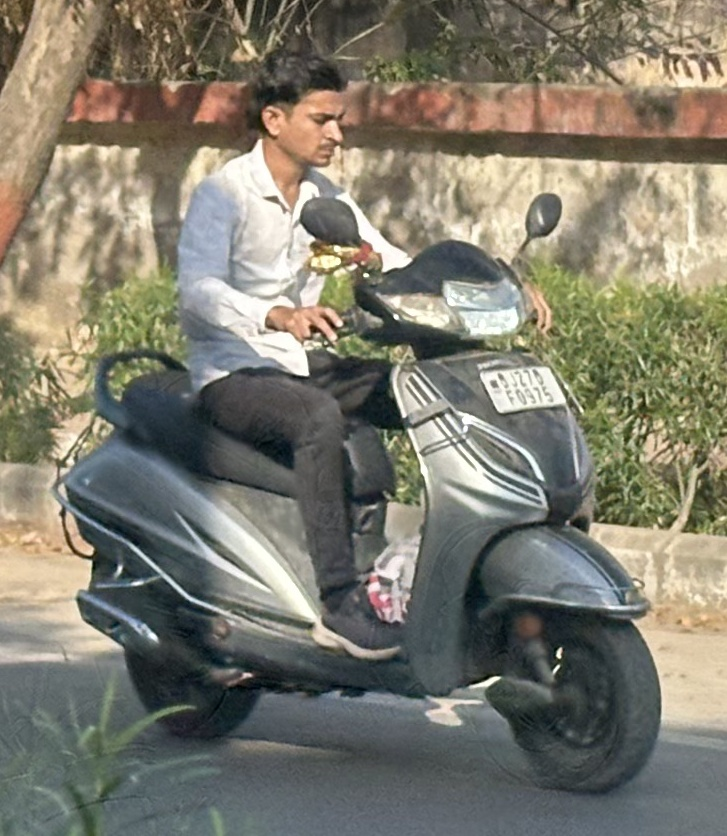BikeWithRider: (66, 46, 664, 791)
NoHelmet: (241, 51, 345, 168)
